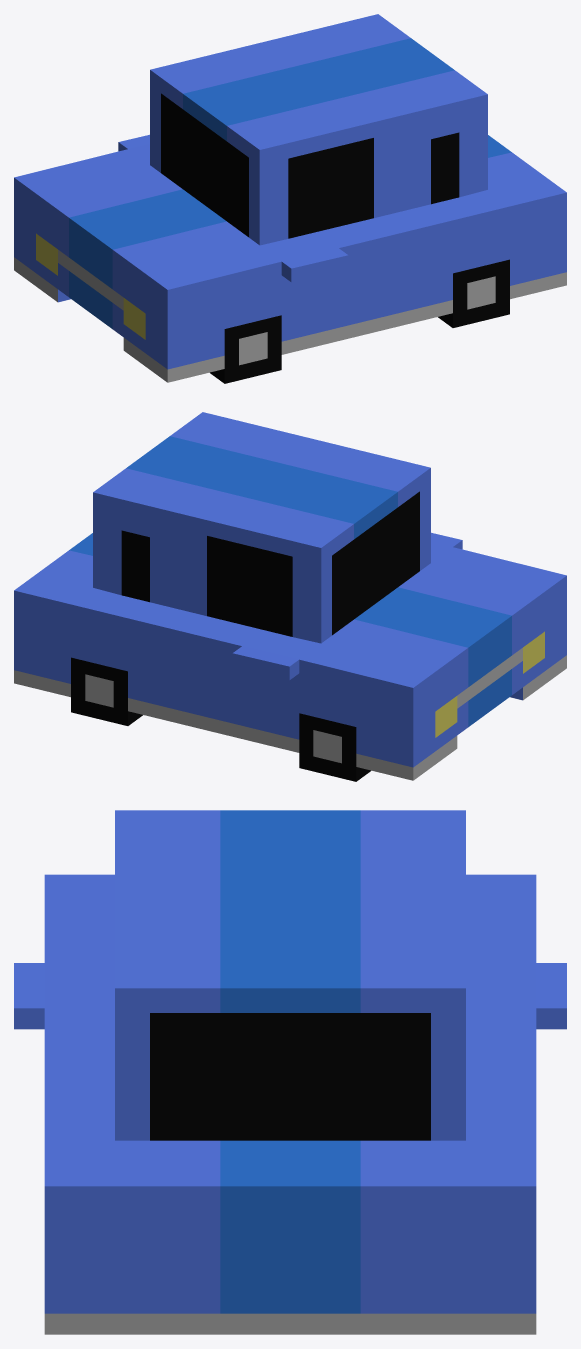
File: Car_A.fbx
3 views of the same model, one above another, from view 1: azimuth 30°, elevation 25°; view 2: azimuth 150°, elevation 25°; view 3: azimuth 270°, elevation 25° (orthographic). The views are drawn at different scales.
Visible parts, largest first — view 1: Cube.001; view 2: Cube.001; view 3: Cube.001.
Part boxes in pixels (left/top/right/bottom): Cube.001: left=14, top=14, right=566, bottom=383; Cube.001: left=14, top=412, right=566, bottom=781; Cube.001: left=14, top=810, right=566, bottom=1334.
Bounding box in the file's own units: 9 × 4.39 × 6.75.
